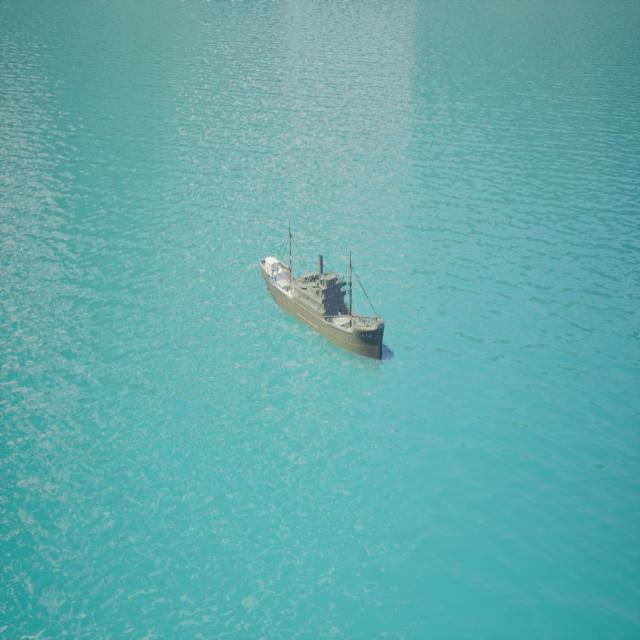fishing ship: (260, 253, 388, 365)
